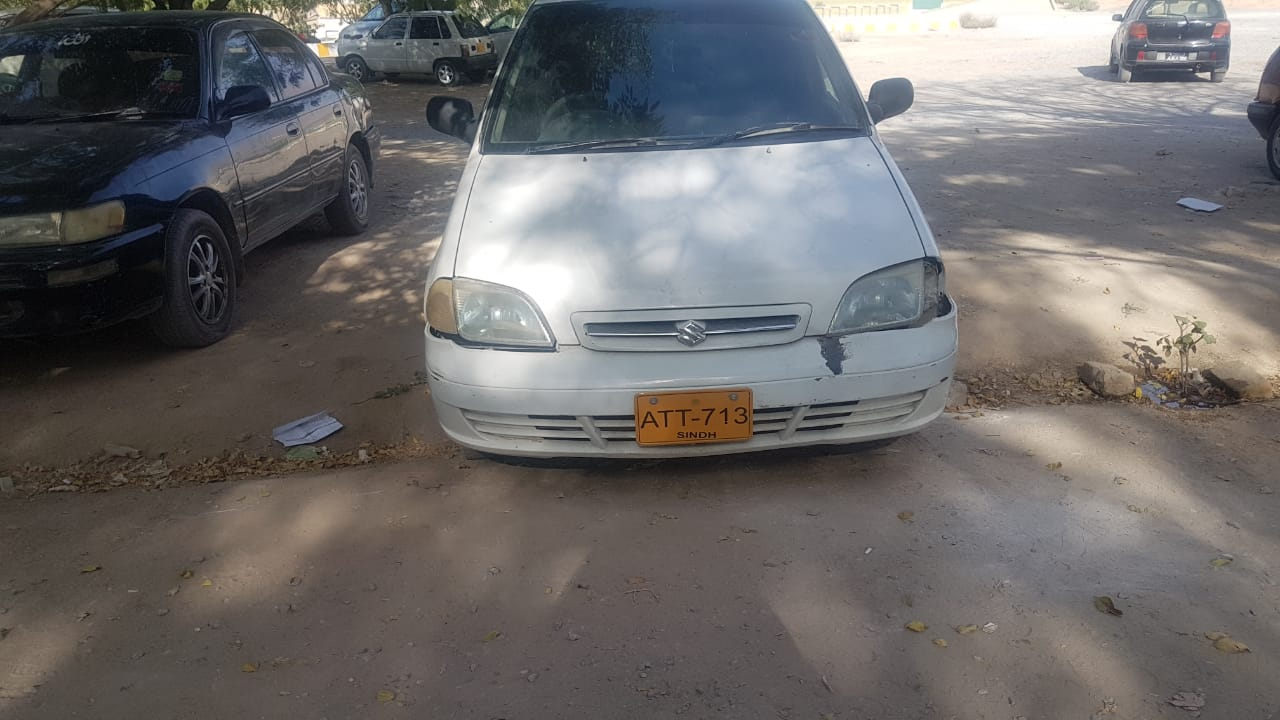license plate: (633, 390, 749, 446)
